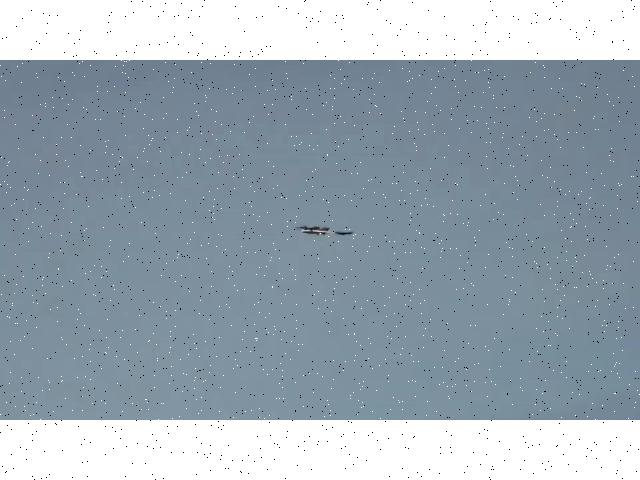Anti-Drone: (296, 225, 354, 235)
